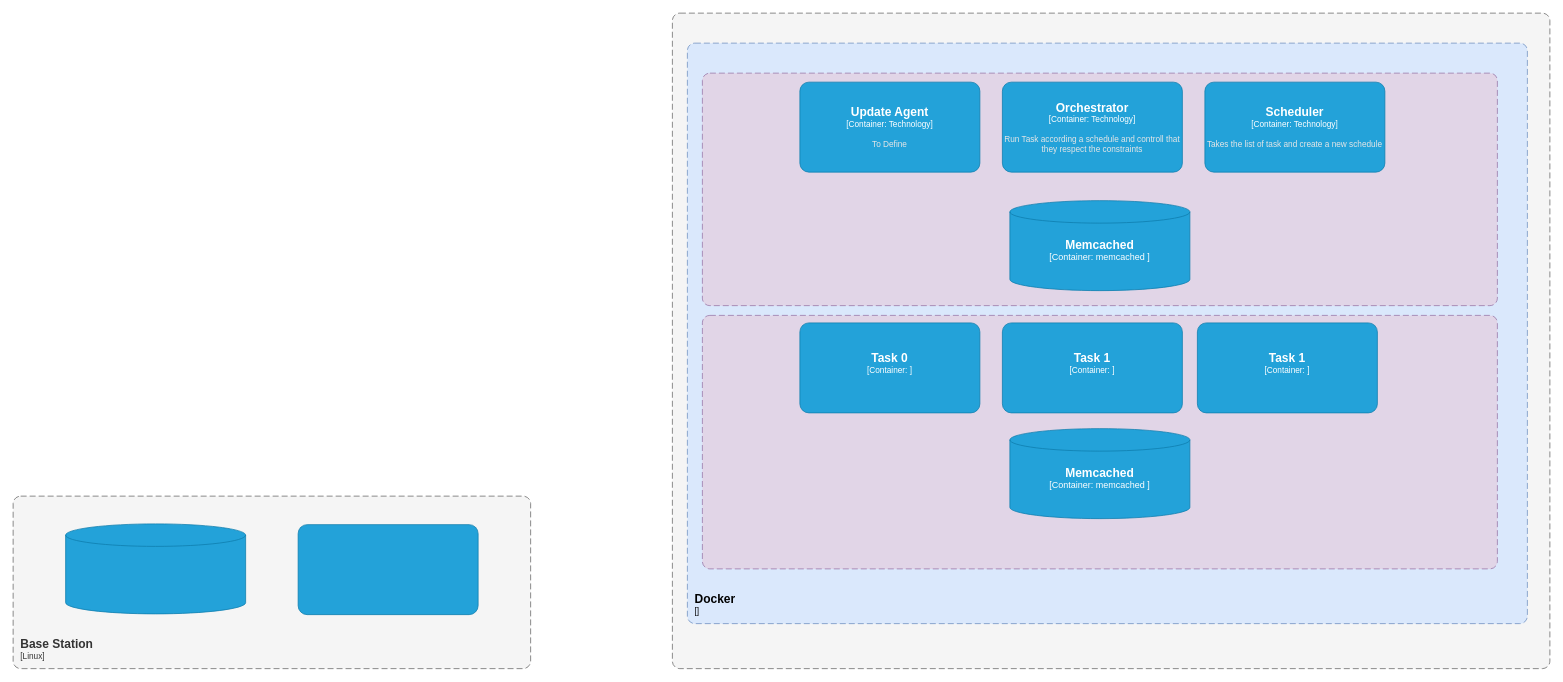
The diagram is 1563 pixels wide and 682 high, and some of its shapes have lost their labels. The box of each missing label's shape, as (x1, y1, x2, y2) in pixels:
API [Container: Rest API]: (297, 524, 478, 615)
Core 0 []: (702, 72, 1497, 306)
Core 1 []: (702, 315, 1497, 569)
Manfest and Register [Container: ] Contain the Manifest and Task images: (65, 523, 246, 614)
Satellite [Linux RT]: (672, 12, 1550, 669)
